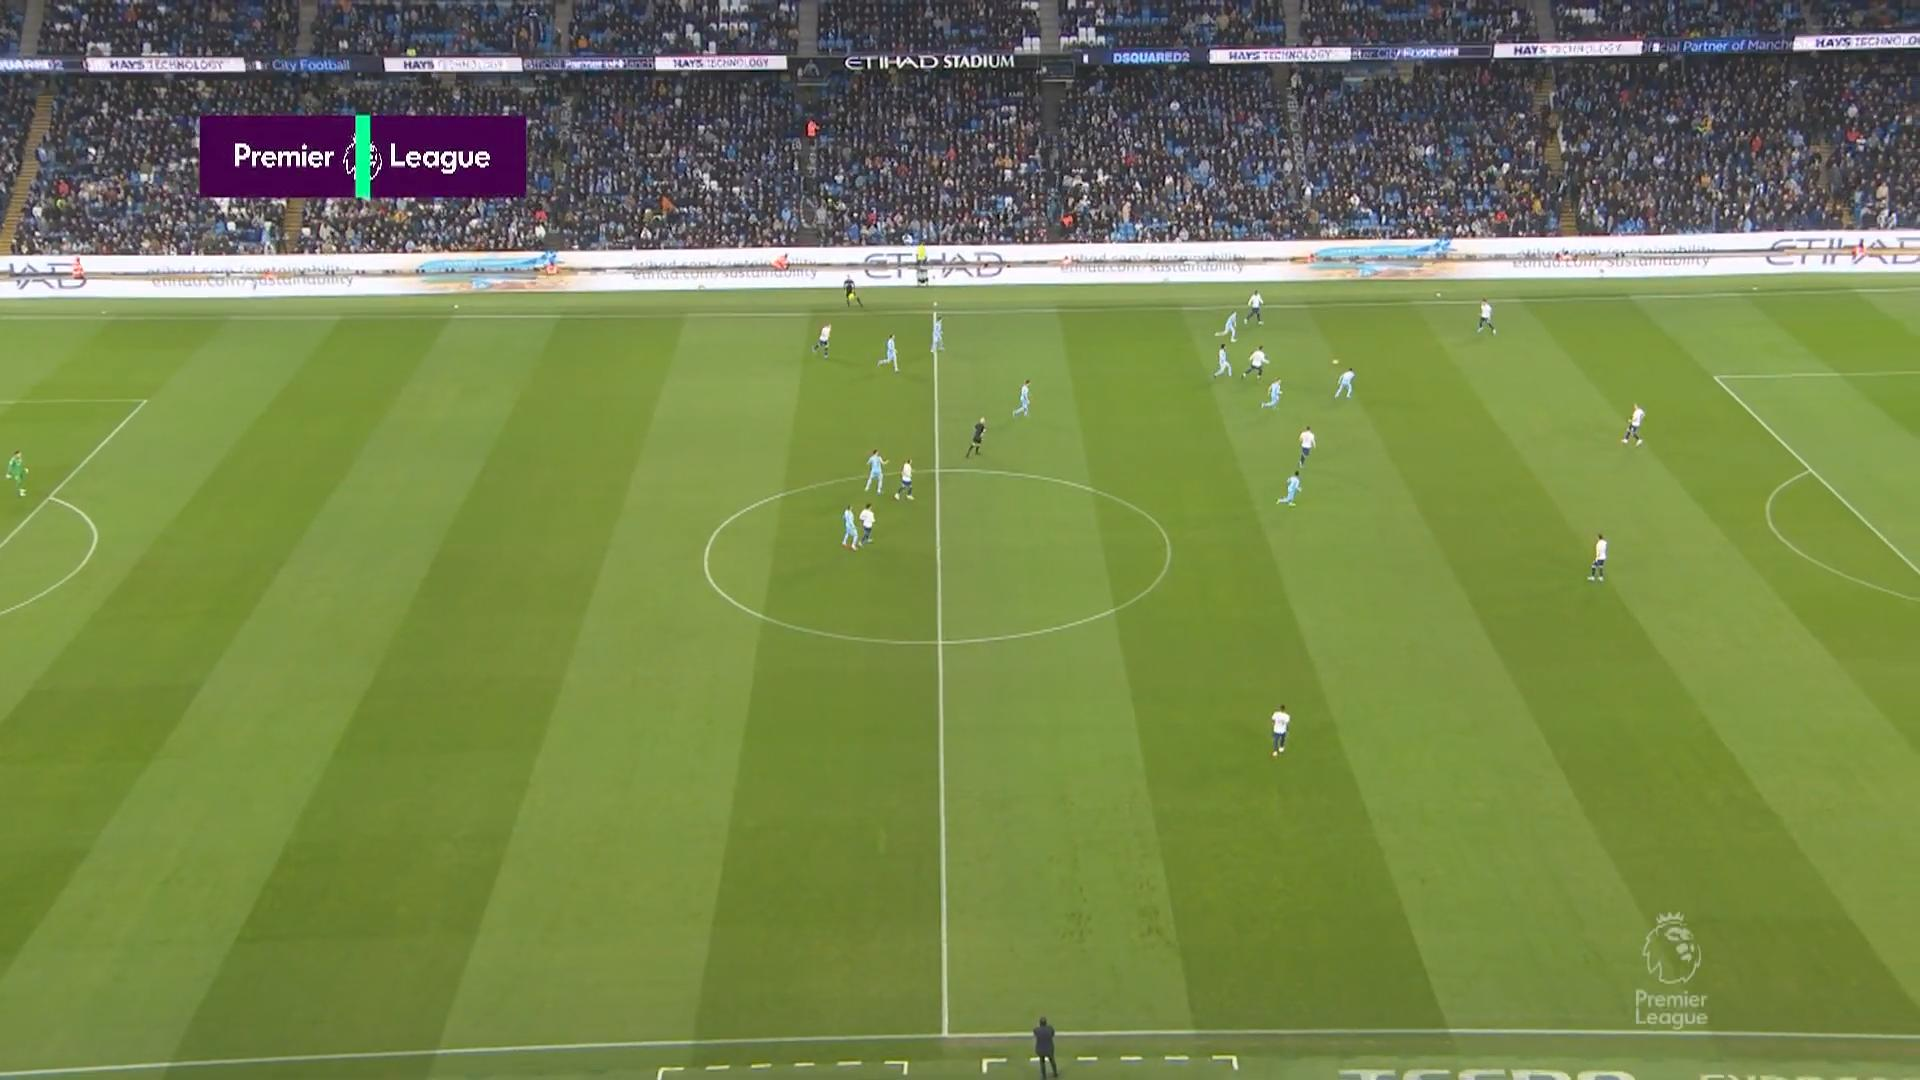ball: (1333, 358, 1339, 365)
goalkeeper: (4, 448, 28, 497)
player: (1269, 703, 1290, 756), (863, 448, 886, 494), (1620, 402, 1644, 446), (1586, 531, 1607, 581), (1241, 344, 1269, 379), (840, 504, 860, 551), (1276, 468, 1300, 506), (876, 333, 899, 372), (893, 458, 914, 500), (1297, 425, 1316, 467), (1011, 378, 1031, 417), (1260, 376, 1283, 409), (1211, 342, 1232, 378), (857, 502, 875, 544), (1476, 297, 1496, 334), (1217, 309, 1239, 342), (812, 321, 831, 358), (1245, 288, 1264, 325), (1334, 366, 1355, 399), (929, 311, 944, 353)
referee: (965, 415, 986, 457)
